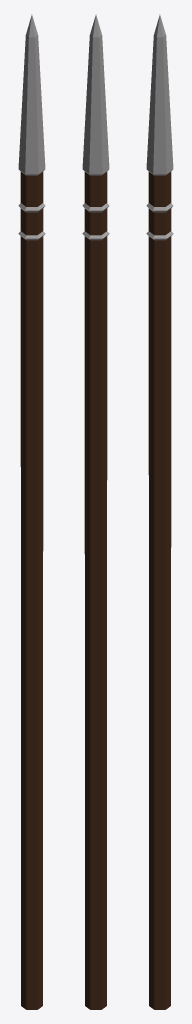
The model's file is ArrowSpikeLong.fbx.
The picture shows the model from 3 angles, left to right: view 1: azimuth 30°, elevation 25°; view 2: azimuth 150°, elevation 25°; view 3: azimuth 330°, elevation 25°; orthographic projection.
Visible parts, largest first — view 1: ArrowSpikeLong; view 2: ArrowSpikeLong; view 3: ArrowSpikeLong.
Part boxes in pixels (<box>): ArrowSpikeLong: <box>18,14,45,1009</box>; ArrowSpikeLong: <box>82,14,109,1009</box>; ArrowSpikeLong: <box>146,14,173,1009</box>.
Size of the model in its own units: 4.2 by 193 by 4.84.
